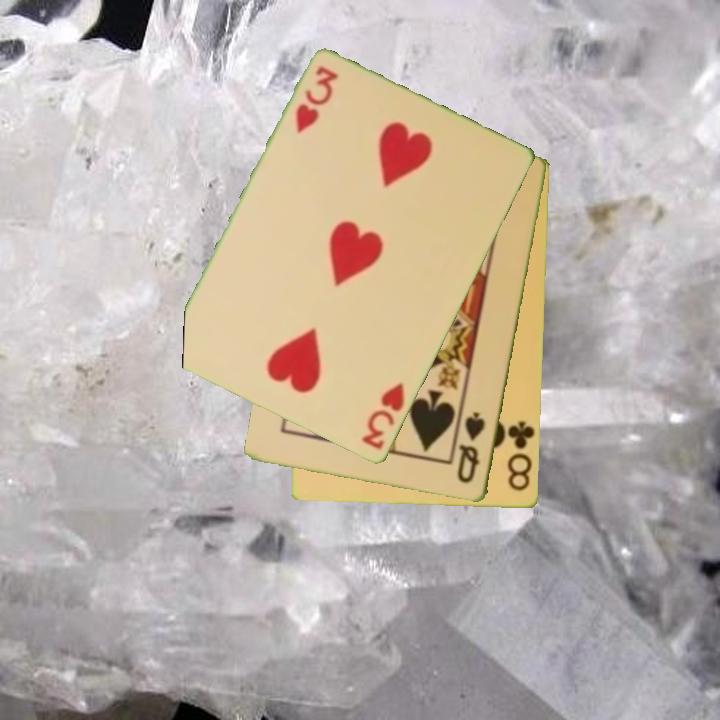3h: (292, 62, 342, 137), (357, 380, 408, 453)
8c: (502, 418, 538, 494)
Qs: (454, 408, 489, 487)
